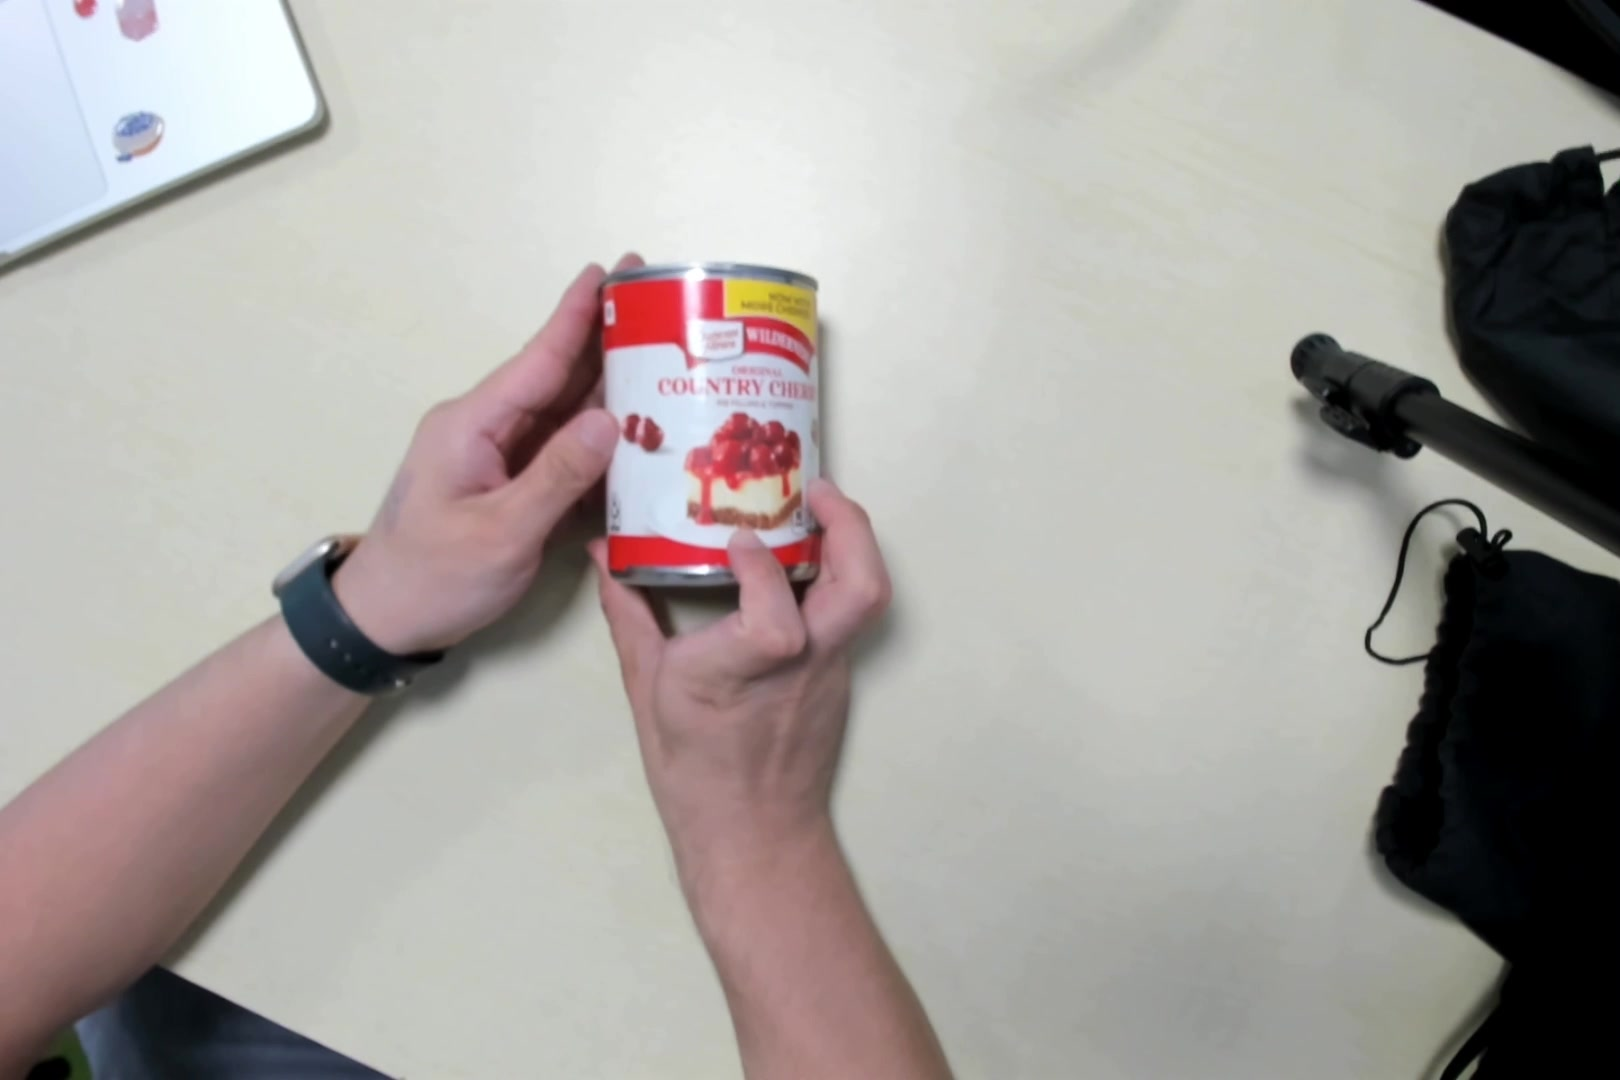OtherBakingNeeds_500-599g_NonHalal_NonHealthy: (603, 269, 821, 585)
